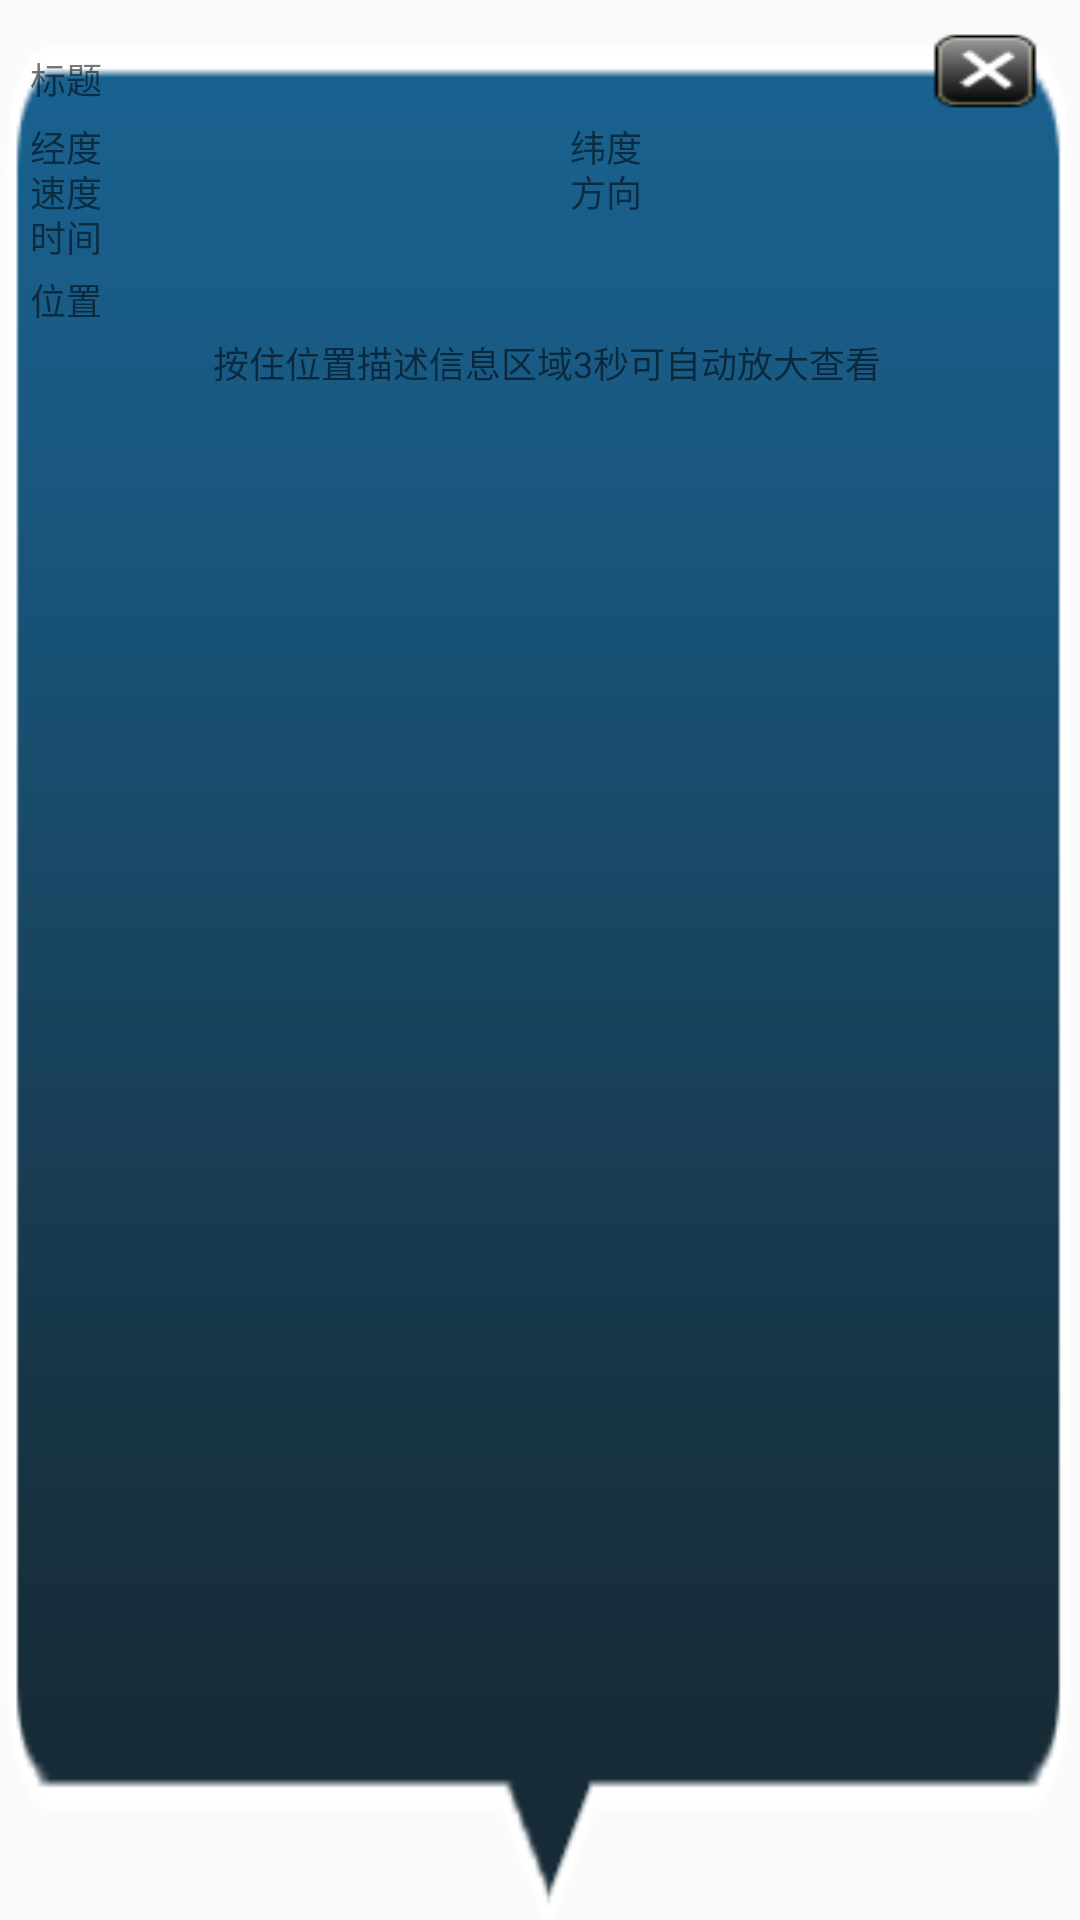

Named icons in this screenshot (1080 × 1920) and their centers, [x,y]:
singlepos mainmapclose: [987,75]
